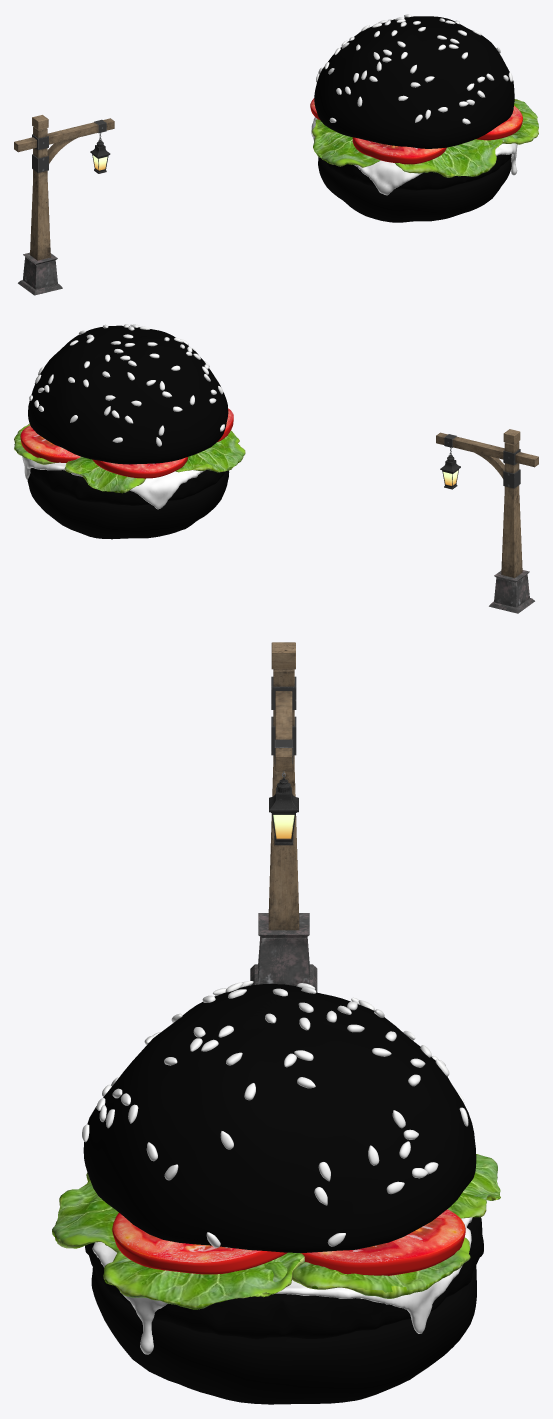
File: burger.glb
The picture shows the model from 3 angles, top to bottom: view 1: azimuth 30°, elevation 25°; view 2: azimuth 150°, elevation 25°; view 3: azimuth 270°, elevation 25°; orthographic projection. The views are drawn at different scales.
Visible parts, largest first — view 1: HamburgerBunTop, HamburgerBunBot, LanternPole_Body, Lettucec, Lettuceb, Patty, Cheese, Tomatoc, Lettuced, Tomatod, LanternPole_Lantern; view 2: HamburgerBunTop, HamburgerBunBot, LanternPole_Body, Patty, Cheese, Lettuceb, Lettucea, Tomatoa, Tomatob, LanternPole_Lantern, Lettucee; view 3: HamburgerBunTop, HamburgerBunBot, Patty, LanternPole_Body, Lettuced, Tomatob, Tomatod, Cheese, Lettucee, Lettucec, Lettucea, LanternPole_Lantern.
Boxes of the visible parts, x1,y1,x2,y2 form: HamburgerBunTop: [314, 14, 514, 148]; HamburgerBunBot: [318, 157, 511, 222]; LanternPole_Body: [14, 115, 114, 295]; Lettucec: [395, 139, 502, 177]; Lettuceb: [312, 119, 380, 167]; Patty: [324, 154, 511, 190]; Cheese: [311, 117, 517, 195]; Tomatoc: [352, 137, 446, 164]; Lettuced: [500, 99, 538, 144]; Tomatod: [476, 105, 522, 140]; LanternPole_Lantern: [90, 138, 110, 173]; HamburgerBunTop: [28, 324, 228, 464]; HamburgerBunBot: [27, 470, 229, 539]; LanternPole_Body: [436, 429, 538, 613]; Patty: [30, 468, 225, 505]; Cheese: [22, 456, 204, 509]; Lettuceb: [175, 430, 245, 472]; Lettucea: [64, 456, 145, 493]; Tomatoa: [92, 457, 187, 478]; Tomatob: [20, 425, 80, 462]; LanternPole_Lantern: [440, 453, 460, 489]; Lettucee: [14, 424, 58, 464]; HamburgerBunTop: [82, 981, 476, 1252]; HamburgerBunBot: [91, 1266, 476, 1404]; Patty: [85, 1217, 483, 1339]; LanternPole_Body: [250, 642, 317, 992]; Lettuced: [103, 1250, 304, 1309]; Tomatob: [300, 1209, 465, 1275]; Tomatod: [112, 1213, 287, 1274]; Cheese: [92, 1217, 472, 1354]; Lettucee: [292, 1237, 470, 1298]; Lettucec: [52, 1172, 119, 1252]; Lettucea: [447, 1154, 500, 1218]; LanternPole_Lantern: [269, 775, 298, 845].
Bounding box in the file's own units: 79.89 × 26.58 × 31.1.
Materials: 8 (5 with a texture image).
